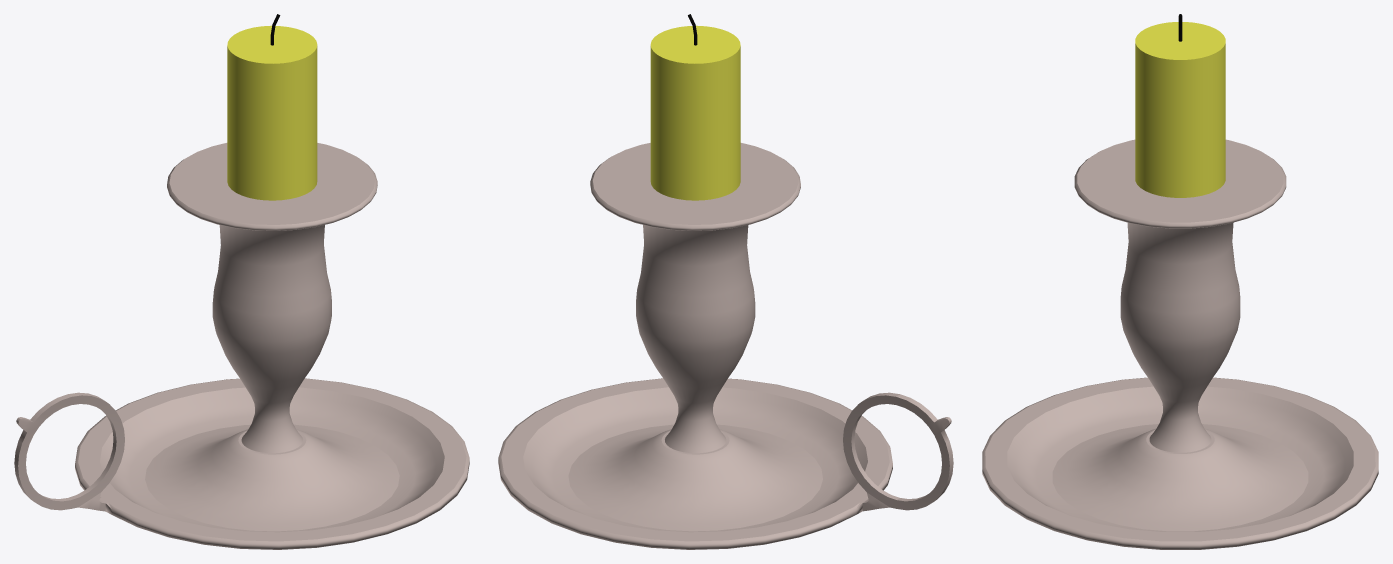
The model's file is Kynttila1.fbx.
3 renders of one model, left to right at view 1: azimuth 30°, elevation 25°; view 2: azimuth 150°, elevation 25°; view 3: azimuth 270°, elevation 25°, orthographic.
Parts seen in each view (by area): view 1: jalka; view 2: jalka; view 3: jalka.
Boxes of the visible parts, <box> form: jalka: <box>14,14,469,549</box>; jalka: <box>498,14,953,549</box>; jalka: <box>982,14,1378,549</box>.
Size of the model in its own units: 249 by 265 by 199.
